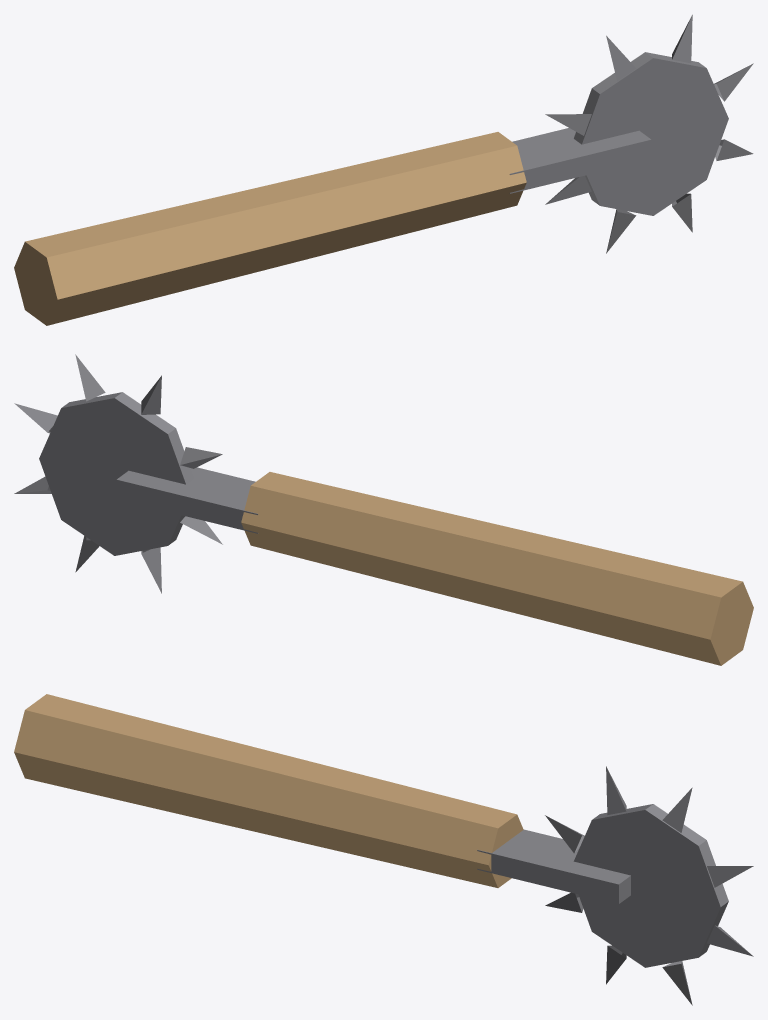
Rendered from prop-pricking-wheel.fbx.
The picture shows the model from 3 angles, top to bottom: view 1: azimuth 30°, elevation 25°; view 2: azimuth 150°, elevation 25°; view 3: azimuth 330°, elevation 25°; orthographic projection.
Parts seen in each view (by area): view 1: prop-pricking-wheel; view 2: prop-pricking-wheel; view 3: prop-pricking-wheel.
Part boxes in pixels (x1=…): prop-pricking-wheel: x1=14, y1=14, x2=753, y2=325; prop-pricking-wheel: x1=14, y1=354, x2=753, y2=665; prop-pricking-wheel: x1=14, y1=694, x2=753, y2=1005.
Size of the model in its own units: 15.22 by 4.43 by 1.6.
